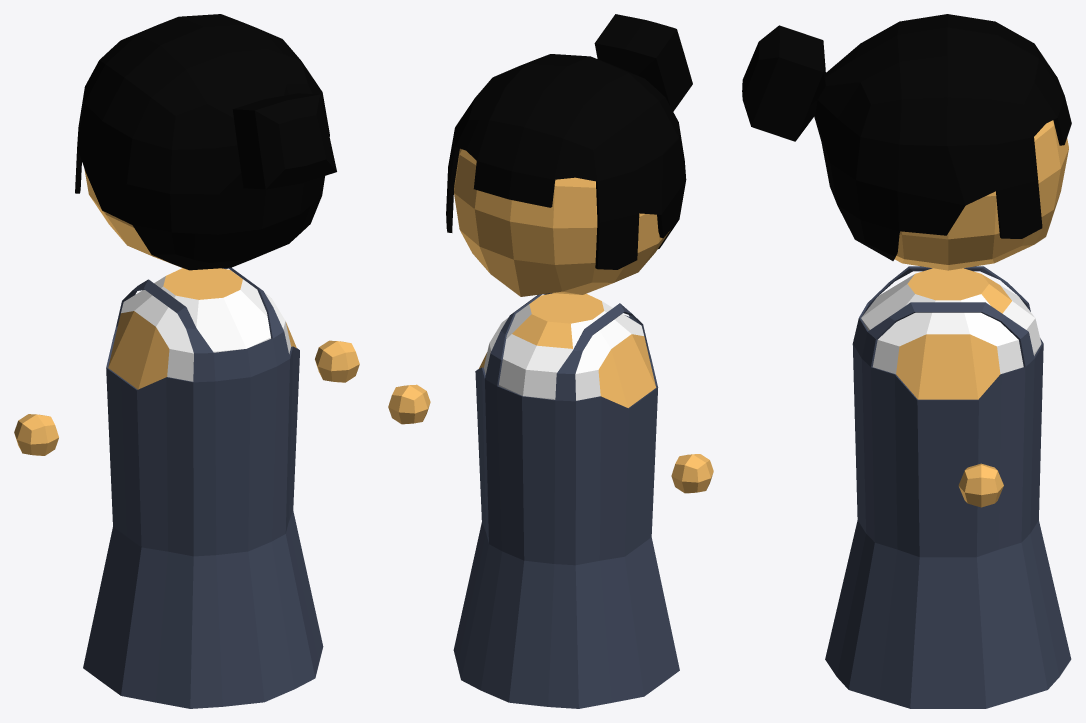
The model's file is FemaleModel.fbx.
The picture shows the model from 3 angles, left to right: view 1: azimuth 30°, elevation 25°; view 2: azimuth 150°, elevation 25°; view 3: azimuth 270°, elevation 25°; orthographic projection. The views are drawn at different scales.
Parts seen in each view (by area): view 1: Cylinder.072, Cube.3824, Cube.3823, Cube.3822; view 2: Cylinder.072, Cube.3824, Cube.3822, Cube.3823; view 3: Cylinder.072, Cube.3824, Cube.3823.
Boxes of the visible parts, box(x1,y1,x2,y2) form: Cylinder.072: box(83, 267, 323, 708); Cube.3824: box(75, 14, 336, 270); Cube.3823: box(315, 340, 359, 382); Cube.3822: box(14, 414, 58, 455); Cylinder.072: box(453, 293, 679, 708); Cube.3824: box(446, 14, 692, 296); Cube.3822: box(671, 454, 713, 493); Cube.3823: box(388, 384, 430, 424); Cylinder.072: box(825, 266, 1071, 708); Cube.3824: box(742, 14, 1071, 270); Cube.3823: box(958, 463, 1003, 507).
Bounding box in the file's own units: 77.04 × 91.97 × 163.
